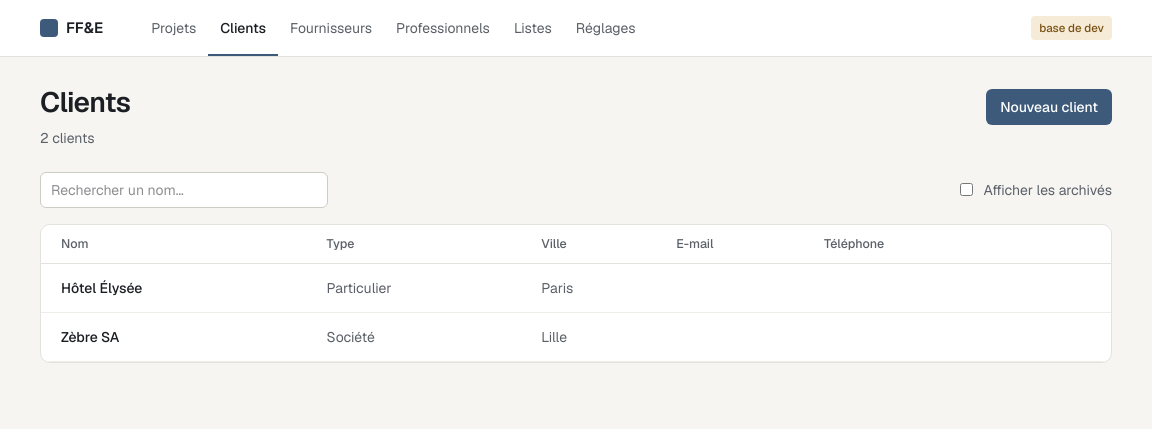
liste des clients › affiche les actifs triés, cache les archivés sauf demande
Expected: the table named "Liste des clients" is shown, left=41, top=225, right=1111, bottom=362
Click the checkbox labelled "Afficher les archivés" at (967, 190), box left=960, top=183, right=973, bottom=196
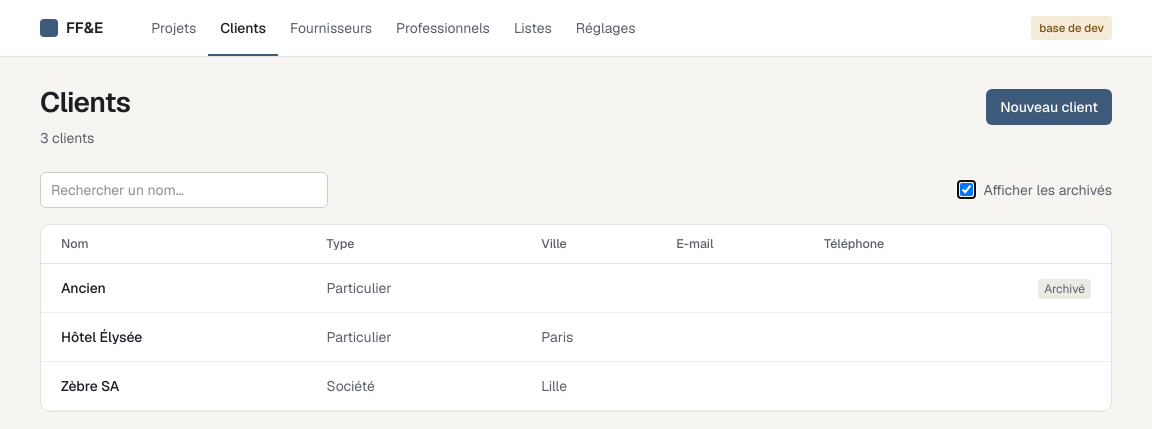
Expected: the text "Archivé" is shown, left=1038, top=279, right=1091, bottom=299
